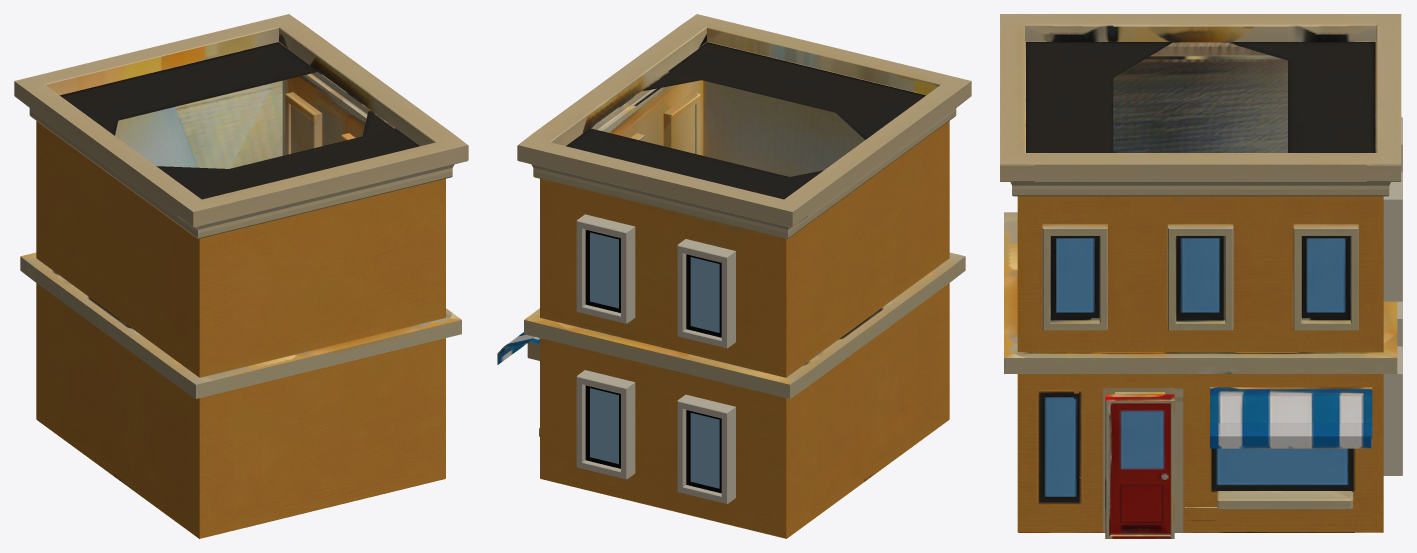
The model's file is buildingYellow.fbx.
The picture shows the model from 3 angles, left to right: view 1: azimuth 30°, elevation 25°; view 2: azimuth 150°, elevation 25°; view 3: azimuth 270°, elevation 25°; orthographic projection. The views are drawn at different scales.
Parts seen in each view (by area): view 1: polySurface4; view 2: polySurface4; view 3: polySurface4.
Part boxes in pixels (bbox=[...]): polySurface4: bbox=[14, 14, 468, 538]; polySurface4: bbox=[497, 14, 971, 538]; polySurface4: bbox=[1000, 14, 1402, 538].
Bounding box in the file's own units: 90.79 × 94.81 × 91.69.
Materials: 4 (1 with a texture image).
